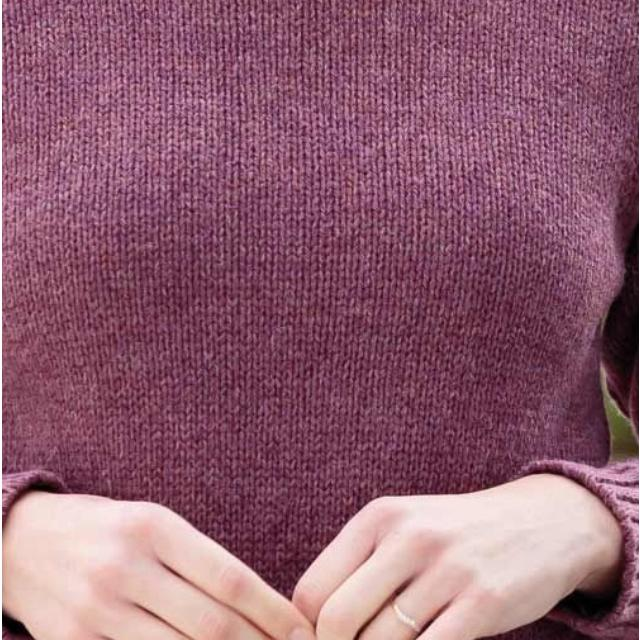wool: (1, 0, 638, 640)
